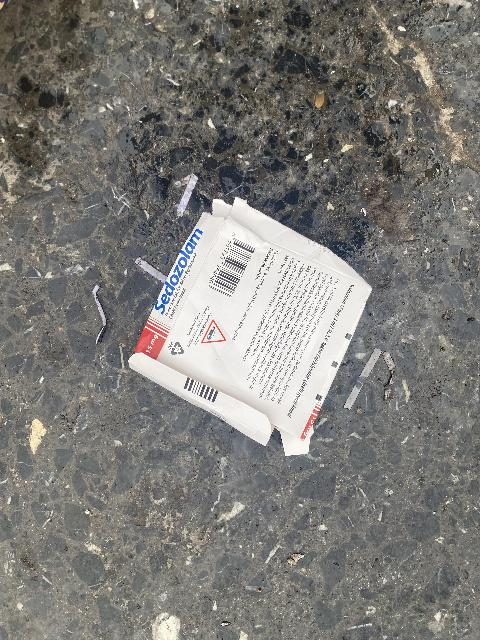Kagit: (111, 194, 390, 454)
